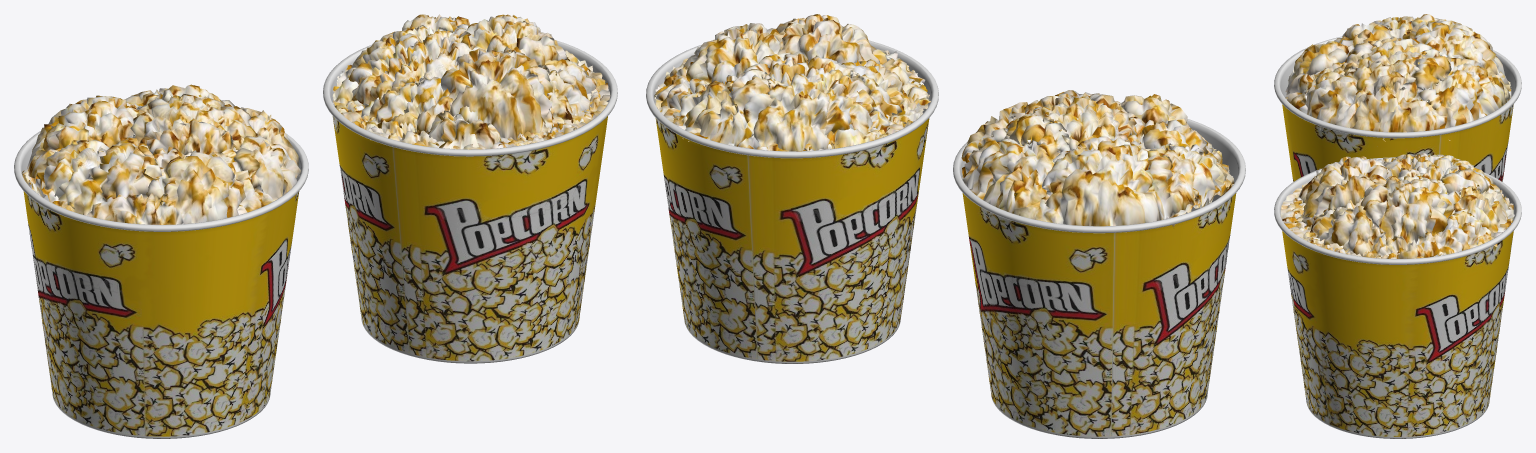
File: popcorn.fbx
The picture shows the model from 3 angles, left to right: view 1: azimuth 30°, elevation 25°; view 2: azimuth 150°, elevation 25°; view 3: azimuth 270°, elevation 25°; orthographic projection. The views are drawn at different scales.
Visible parts, largest first — view 1: Bucket.001, Bucket.002, Popcorn, Popcorn.002, Popcorn.001; view 2: Bucket.001, Bucket.002, Popcorn, Popcorn.002, Popcorn.001; view 3: Bucket.001, Popcorn, Popcorn.002, Bucket.002, Popcorn.001.
Boxes of the visible parts, <box> form: Bucket.001: <box>323,40,617,363</box>; Bucket.002: <box>14,131,308,438</box>; Popcorn: <box>21,84,300,224</box>; Popcorn.002: <box>345,14,603,149</box>; Popcorn.001: <box>332,59,610,149</box>; Bucket.001: <box>646,40,938,363</box>; Bucket.002: <box>953,119,1245,438</box>; Popcorn: <box>961,90,1234,226</box>; Popcorn.002: <box>654,14,930,151</box>; Popcorn.001: <box>655,58,929,151</box>; Bucket.001: <box>1274,157,1521,438</box>; Popcorn: <box>1285,14,1511,146</box>; Popcorn.002: <box>1286,152,1514,258</box>; Bucket.002: <box>1274,36,1521,181</box>; Popcorn.001: <box>1280,182,1513,258</box>.
Size of the model in its own units: 59.2 by 28.64 by 26.79.
3 materials, 2 textured.
